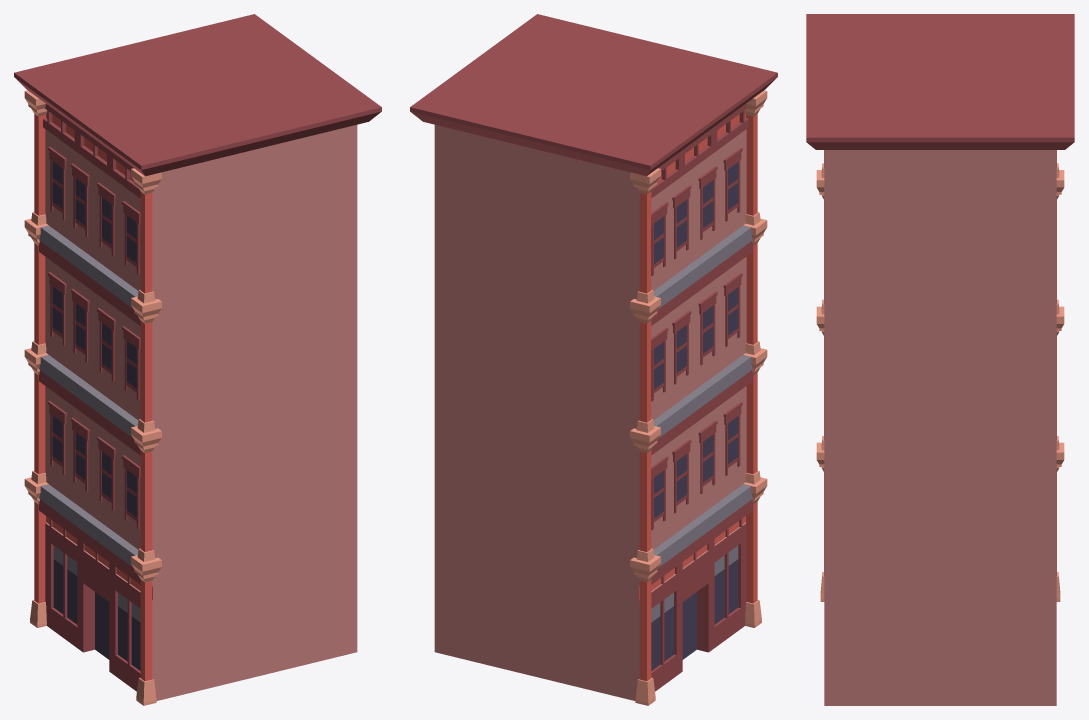
The model's file is building 6 - red.fbx.
3 views of the same model, side by side, from view 1: azimuth 30°, elevation 25°; view 2: azimuth 150°, elevation 25°; view 3: azimuth 270°, elevation 25° (orthographic). The views are drawn at different scales.
Visible parts, largest first — view 1: pCube1, pCube2, pCube4, pCube3, pCube5, pCube6, pCube9, pCube8, pCube7; view 2: pCube1, pCube6, pCube8, pCube7, pCube9, pCube2, pCube5, pCube4, pCube3; view 3: pCube1.
Boxes of the visible parts, left/top/right/bottom form: pCube1: left=14, top=14, right=381, bottom=700; pCube2: left=131, top=555, right=161, bottom=705; pCube4: left=131, top=296, right=161, bottom=432; pCube3: left=131, top=426, right=161, bottom=561; pCube5: left=131, top=168, right=161, bottom=303; pCube6: left=24, top=477, right=48, bottom=627; pCube9: left=24, top=90, right=47, bottom=225; pCube8: left=24, top=218, right=48, bottom=354; pCube7: left=24, top=348, right=48, bottom=484; pCube1: left=410, top=14, right=777, bottom=700; pCube6: left=630, top=555, right=660, bottom=705; pCube8: left=630, top=296, right=660, bottom=432; pCube7: left=630, top=426, right=660, bottom=561; pCube9: left=630, top=168, right=660, bottom=303; pCube2: left=743, top=477, right=767, bottom=627; pCube5: left=744, top=90, right=767, bottom=225; pCube4: left=743, top=218, right=767, bottom=354; pCube3: left=743, top=348, right=767, bottom=484; pCube1: left=806, top=14, right=1074, bottom=705.
Bounding box in the file's own units: 10.13 × 22.03 × 9.29.
